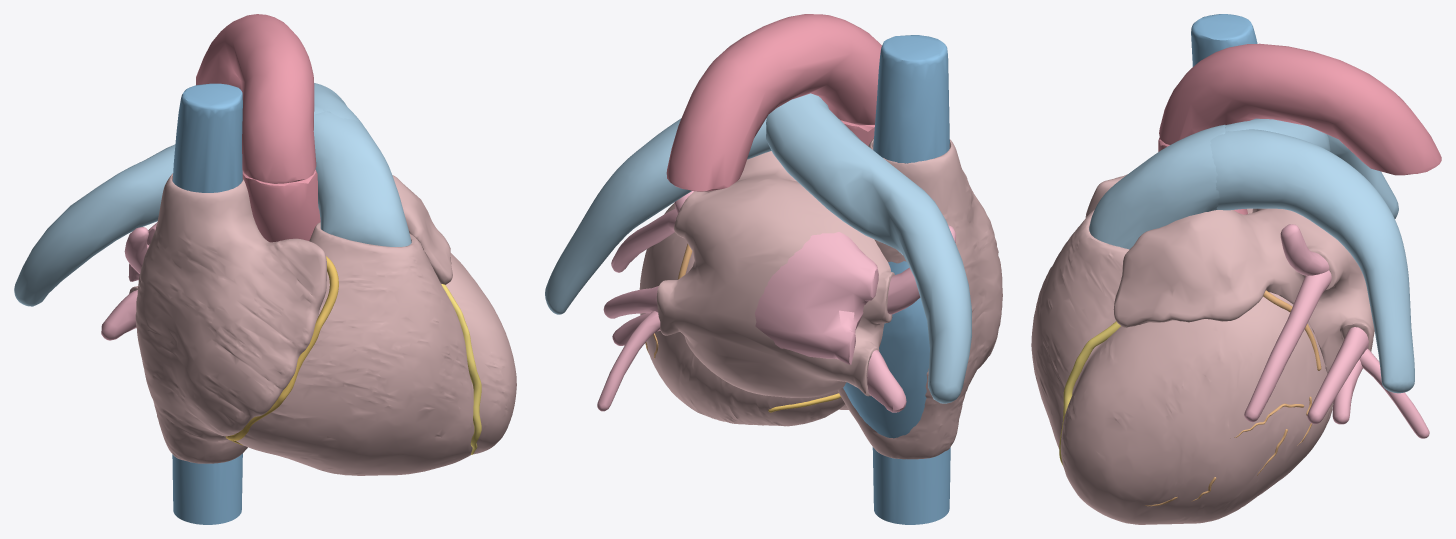
File: heart.glb
The picture shows the model from 3 angles, left to right: view 1: azimuth 30°, elevation 25°; view 2: azimuth 150°, elevation 25°; view 3: azimuth 270°, elevation 25°; orthographic projection. The views are drawn at different scales.
Visible parts, largest first — view 1: FJ2428, FJ2439, FJ3411, FJ3019, FJ2966, FJ3645, FJ3441, FJ3413, FJ2438, FJ2723, FJ2631, FJ3040 (+2 smaller); view 2: FJ2438, FJ3019, FJ3411, FJ2439, FJ2425, FJ2924, FJ2428, FJ3645, FJ2424, FJ3441, FJ2944, FJ2933 (+3 smaller); view 3: FJ2428, FJ2438, FJ3411, FJ2924, FJ2966, FJ2933, FJ3019, FJ3645, FJ2955, FJ2925, FJ2944, FJ2631 (+1 smaller).
Boxes of the visible parts, x1,y1,x2,y2 form: FJ2428: (233,222,516,475); FJ2439: (135,173,326,463); FJ3411: (196,14,316,183); FJ3019: (14,104,323,306); FJ2966: (313,111,411,246); FJ3645: (172,83,242,192); FJ3441: (172,453,242,524); FJ3413: (242,169,320,242); FJ2438: (129,175,452,293); FJ2723: (225,256,338,445); FJ2631: (441,284,481,454); FJ3040: (101,290,137,340); FJ2438: (656,151,894,397); FJ3019: (766,93,971,403); FJ3411: (666,14,881,191); FJ2439: (838,138,1002,459); FJ2425: (754,232,878,364); FJ2924: (545,118,771,314); FJ2428: (639,203,848,426); FJ3645: (873,35,949,163); FJ2424: (843,261,929,438); FJ3441: (872,447,950,524); FJ2944: (597,311,660,411); FJ2933: (611,208,677,272); FJ2428: (1031,209,1333,524); FJ2438: (1113,208,1374,373); FJ3411: (1159,43,1441,175); FJ2924: (1210,129,1414,393); FJ2966: (1089,124,1225,249); FJ2933: (1244,270,1331,422); FJ3019: (1225,118,1398,218); FJ3645: (1191,14,1257,119); FJ2955: (1307,327,1368,424); FJ2925: (1280,224,1329,275); FJ2944: (1359,348,1429,438); FJ2631: (1059,321,1120,465).
Bounding box in the file's own units: 3.52 × 3.88 × 3.17.
